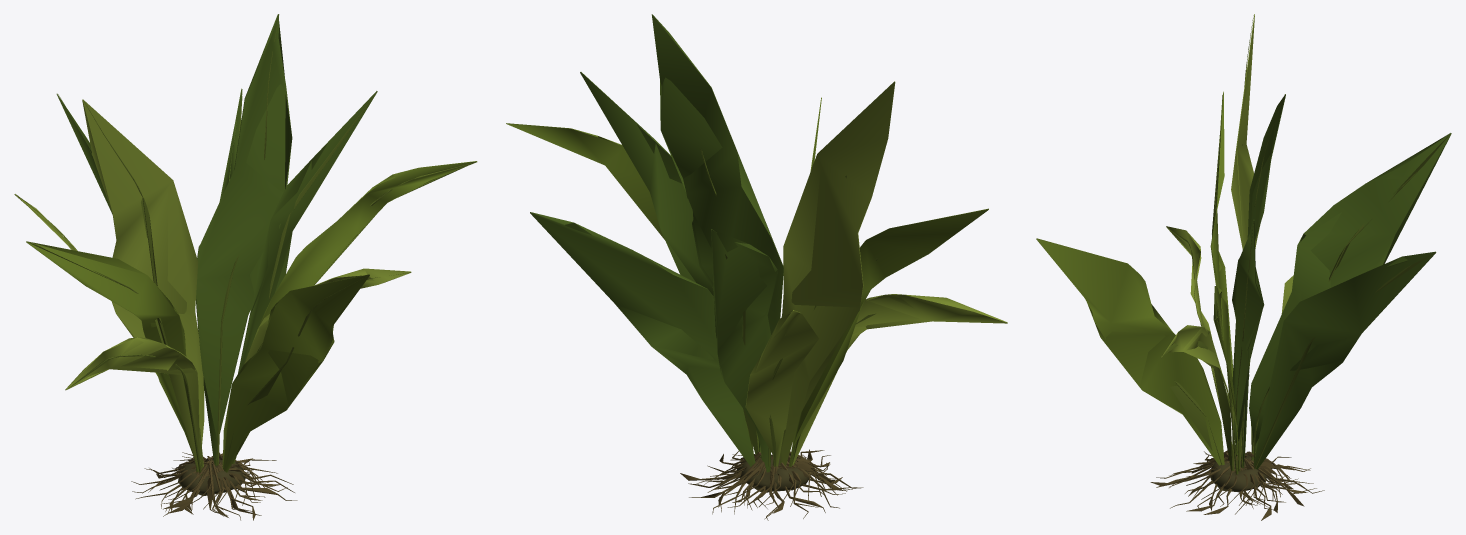
Rendered from waterweed-far.glb.
3 views of the same model, side by side, from view 1: azimuth 30°, elevation 25°; view 2: azimuth 150°, elevation 25°; view 3: azimuth 270°, elevation 25° (orthographic). The views are drawn at different scales.
Visible parts, largest first — view 1: Leaf 02 - rippled blade_export, Leaf 03 - rippled blade_export, Leaf 01 - rippled blade_export, Leaf 01 - midrib_export, Branch root 00_export, Continuous root crown_export; view 2: Leaf 02 - rippled blade_export, Leaf 01 - rippled blade_export, Leaf 03 - rippled blade_export, Branch root 00_export, Leaf 01 - midrib_export, Continuous root crown_export; view 3: Leaf 02 - rippled blade_export, Leaf 03 - rippled blade_export, Leaf 01 - rippled blade_export, Leaf 01 - midrib_export, Branch root 00_export, Continuous root crown_export.
Part boxes in pixels (x1=…): Leaf 02 - rippled blade_export: x1=56, y1=14, x2=377, y2=465; Leaf 03 - rippled blade_export: x1=26, y1=161, x2=477, y2=472; Leaf 01 - rippled blade_export: x1=14, y1=99, x2=411, y2=472; Leaf 01 - midrib_export: x1=16, y1=14, x2=476, y2=475; Branch root 00_export: x1=131, y1=452, x2=297, y2=520; Continuous root crown_export: x1=178, y1=456, x2=246, y2=496; Leaf 02 - rippled blade_export: x1=530, y1=14, x2=783, y2=472; Leaf 01 - rippled blade_export: x1=745, y1=81, x2=1007, y2=468; Leaf 03 - rippled blade_export: x1=506, y1=97, x2=988, y2=466; Branch root 00_export: x1=680, y1=449, x2=863, y2=520; Leaf 01 - midrib_export: x1=700, y1=98, x2=967, y2=467; Continuous root crown_export: x1=737, y1=454, x2=808, y2=492; Leaf 02 - rippled blade_export: x1=1232, y1=94, x2=1451, y2=469; Leaf 03 - rippled blade_export: x1=1036, y1=91, x2=1238, y2=473; Leaf 01 - rippled blade_export: x1=1161, y1=14, x2=1293, y2=470; Leaf 01 - midrib_export: x1=1160, y1=15, x2=1450, y2=474; Branch root 00_export: x1=1150, y1=450, x2=1324, y2=520; Continuous root crown_export: x1=1210, y1=453, x2=1266, y2=492.
Size of the model in its own units: 0.5014 by 0.4627 by 0.4011.
